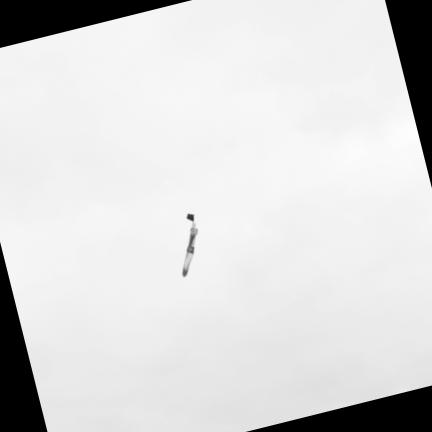Shahed: (182, 214, 197, 276)
